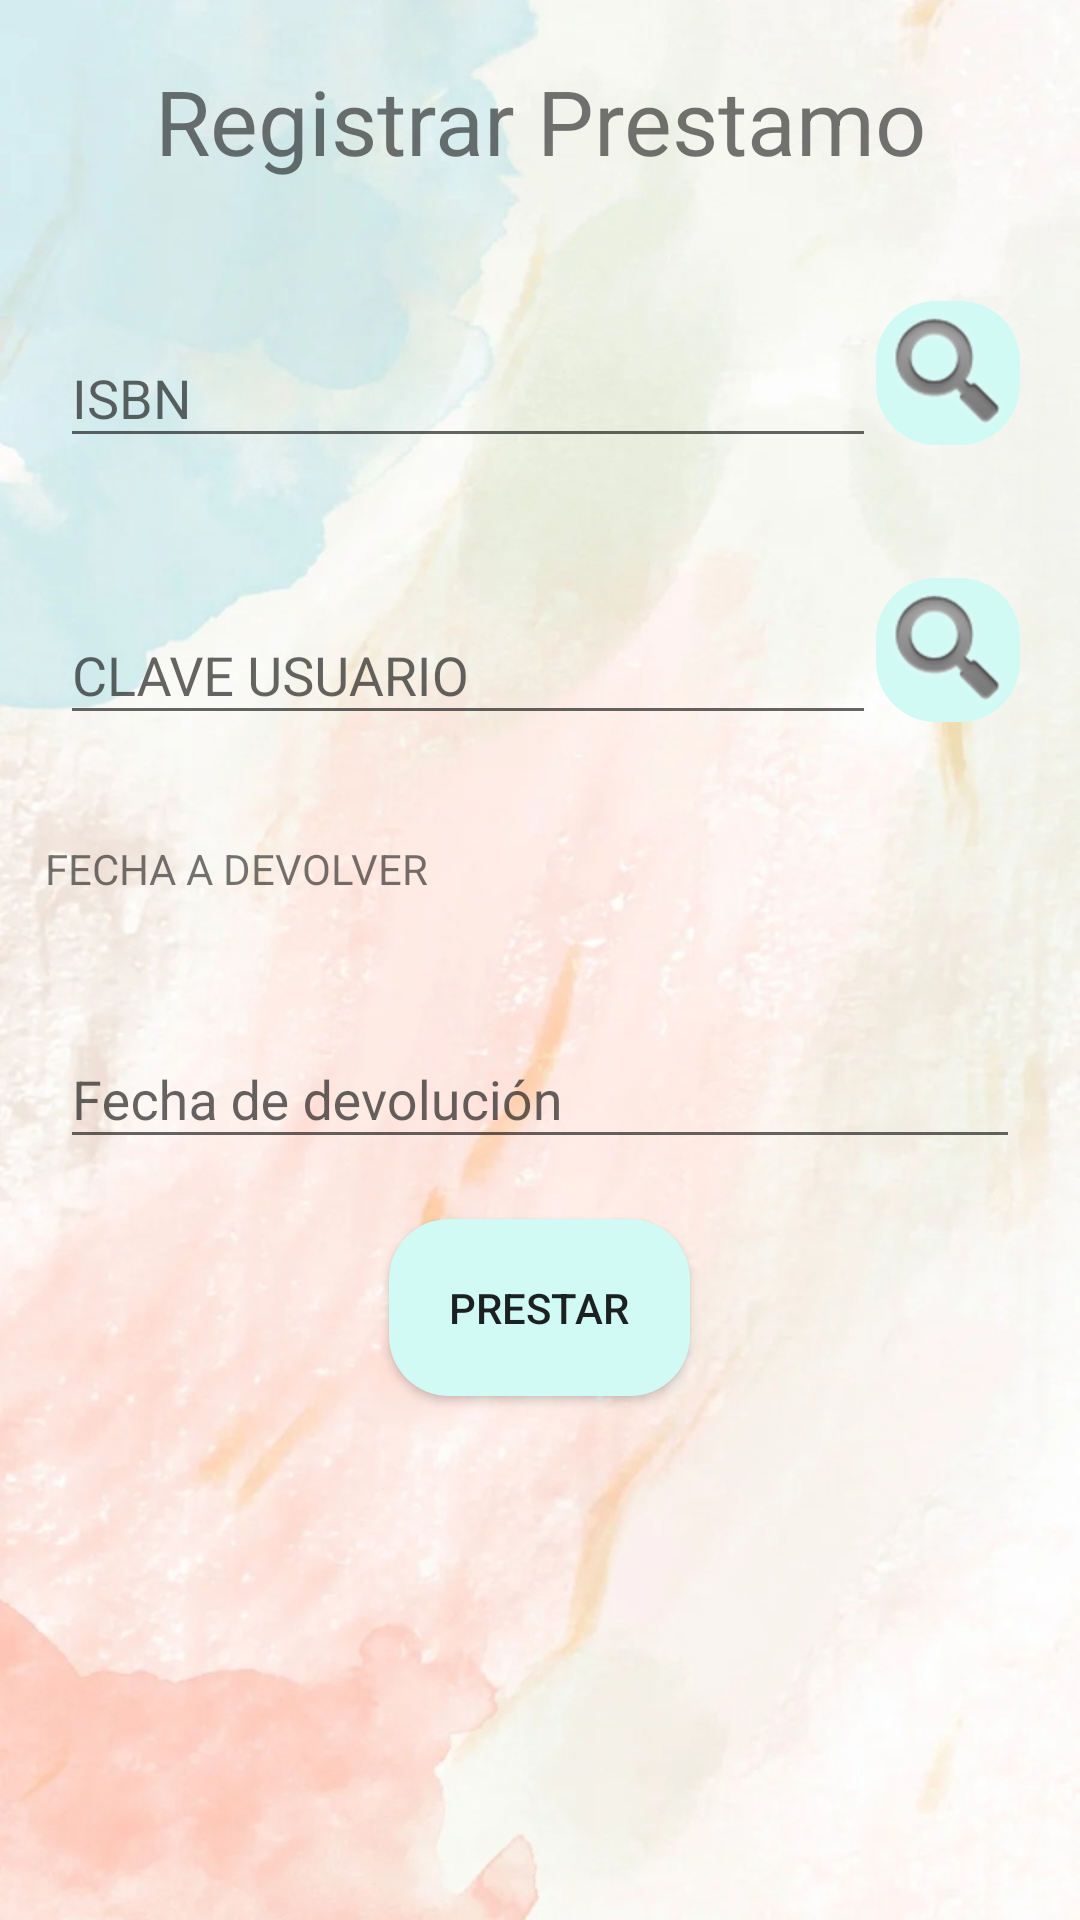

Screen size 1080px x 1920px. Icon name, then its box in pixels as (x1, y1, x2, y2):
Buscar: (876, 301, 1020, 445), (876, 578, 1020, 722)
